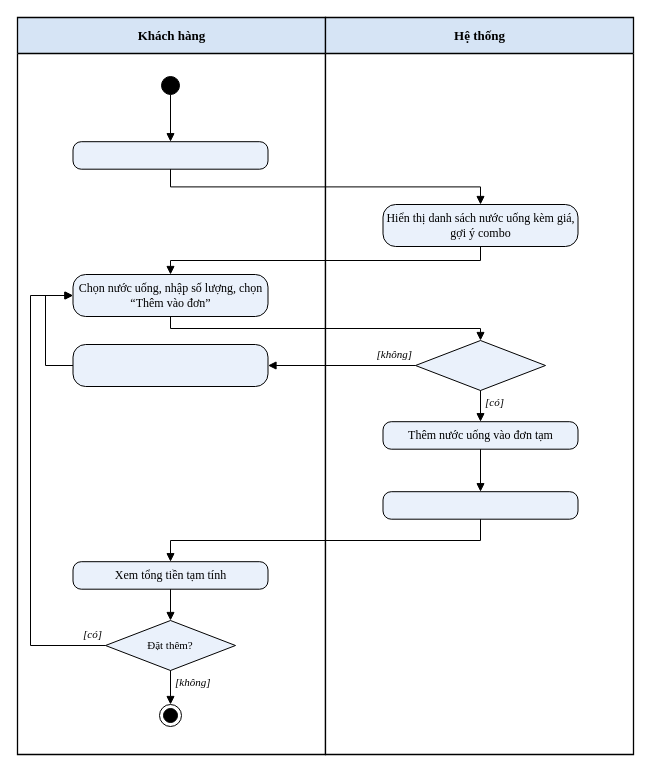
Some shapes in this 652 by 773 pixel diagram are drawn without their labels. Each missing label, with the centre of its shape:
"Chọn mục “Nước uống”" belongs at (x=170, y=155).
"Còn hàng, SL hợp lệ?" belongs at (x=480, y=365).
"Cập nhật tổng tiền tạm tính" belongs at (x=480, y=505).
"Xem thông báo “Tạm hết” / nhập lại" belongs at (x=170, y=365).
